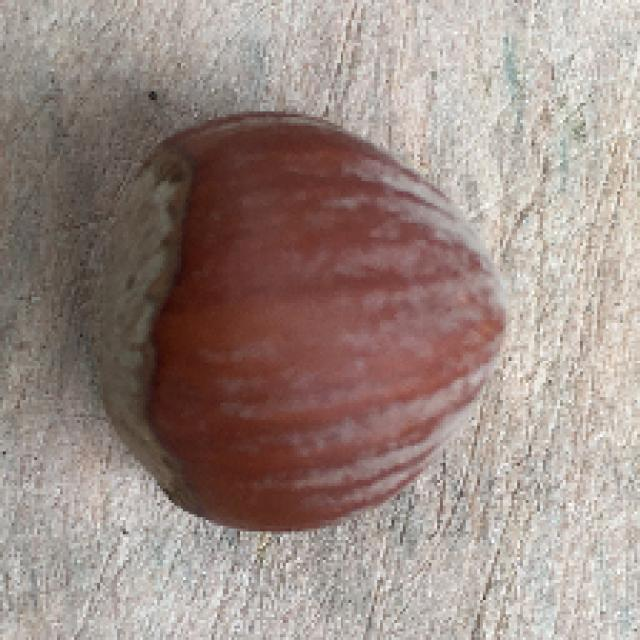qualityHazelnut: (87, 107, 509, 531)
